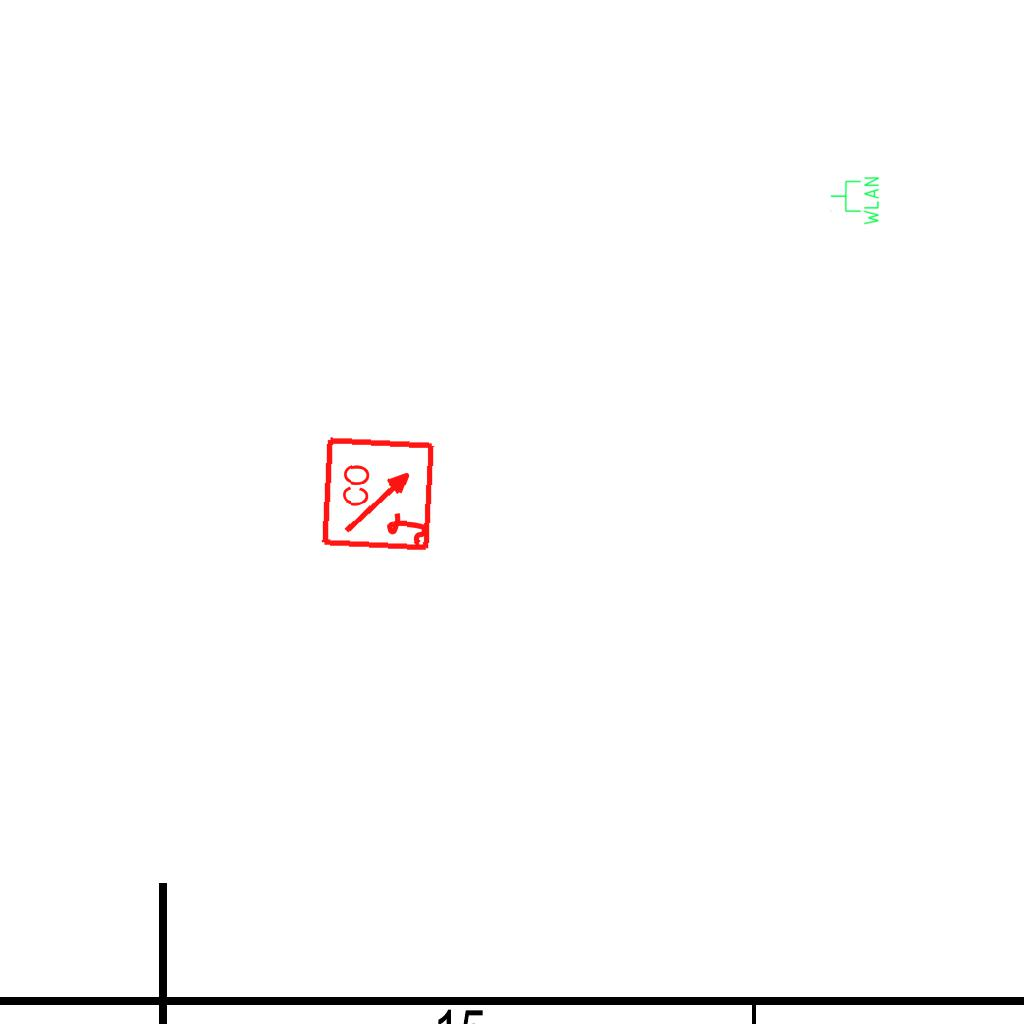ROA_Rauchmelder_optisch_mit_Signalgeber_(Sockelsirene): (320, 434, 439, 553)
WLAN: (829, 175, 881, 227)
